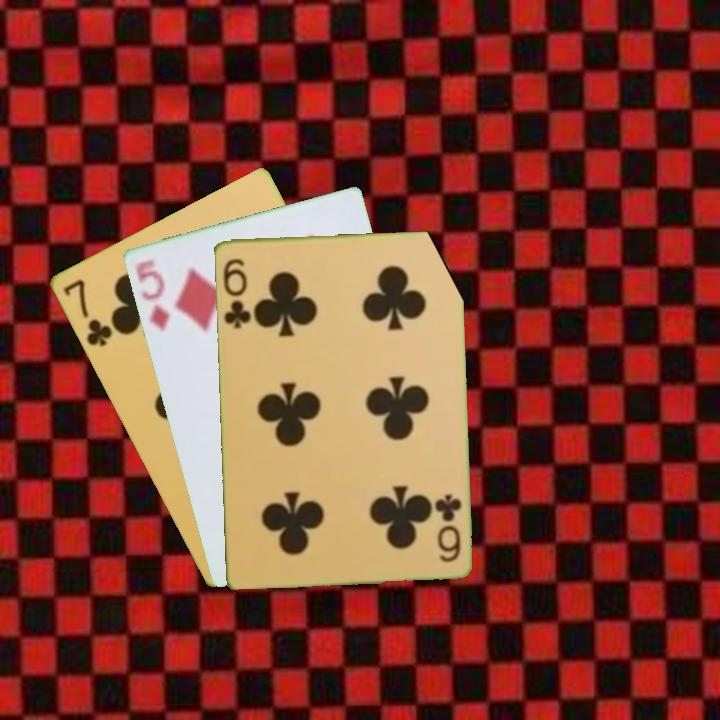5d: (131, 255, 172, 334)
6c: (219, 254, 253, 331), (432, 490, 464, 565)
7c: (59, 275, 115, 350)
